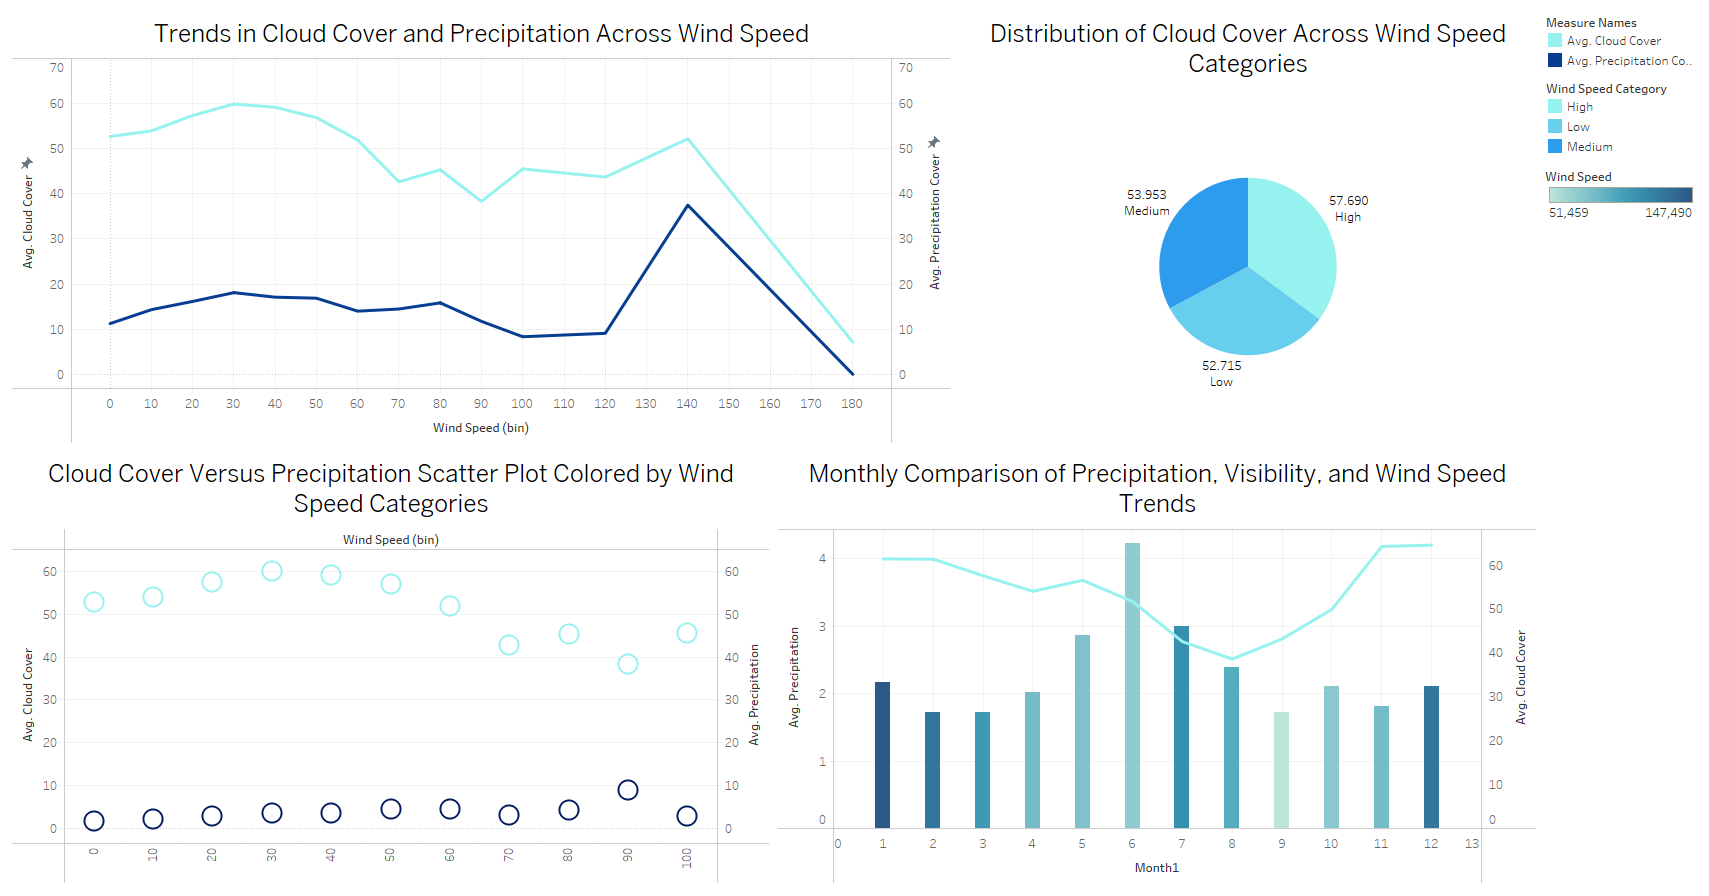

This screenshot's page, from the dashboard's own definition file:
{"tool":"tableau","page":{"name":"Hypothesis-3","canvas":[1000,1000],"units":"permille","ordinal":2},"visuals":[{"type":"worksheet","title":"H3-V1","mark":"Line","rows":["Cloud Cover","Precipitation Cover"],"cols":["Wind Speed (bin)"],"box":[4.7,8.9,554.1,491.1]},{"type":"worksheet","title":"H3-V2","mark":"Pie","box":[558.8,8.9,342.9,491.1]},{"type":"legend","title":"H3-V1","param":"[federated.0d7zv000usn33s12f0i2h1qllquo].[:Measure Names]","box":[901.7,8.9,93.6,73.7]},{"type":"legend","title":"H3-V2","param":"[federated.0d7zv000usn33s12f0i2h1qllquo].[none:Calculation_279223191031902211:nk","box":[901.7,82.6,93.6,96]},{"type":"legend","title":"H3-V4","param":"[federated.0d7zv000usn33s12f0i2h1qllquo].[sum:Wind Speed:qk]","box":[901.7,178.6,93.6,72.5]},{"type":"worksheet","title":"H3-V3","mark":"Shape","rows":["Cloud Cover","Precipitation"],"cols":["Wind Speed (bin)"],"box":[4.7,500,448.5,491.1]},{"type":"worksheet","title":"H3-V4","mark":"Automatic","rows":["Precipitation","Cloud Cover"],"cols":["Month"],"box":[453.2,500,448.5,491.1]}]}

Visuals, with their boxes on the dashboard's canvas, which has no fixed pixel size, in thousandths of its width and height (x1, y1, x2, y2). These are canvas units, not pixel positions in the 1709x896 screenshot, which may show the page scaled, cropped or inside an application window:
"H3-V1" worksheet (Line marks): BBox(5, 9, 559, 500)
"H3-V2" worksheet (Pie marks): BBox(559, 9, 902, 500)
"H3-V1" legend: BBox(902, 9, 995, 83)
"H3-V2" legend: BBox(902, 83, 995, 179)
"H3-V4" legend: BBox(902, 179, 995, 251)
"H3-V3" worksheet (Shape marks): BBox(5, 500, 453, 991)
"H3-V4" worksheet: BBox(453, 500, 902, 991)
